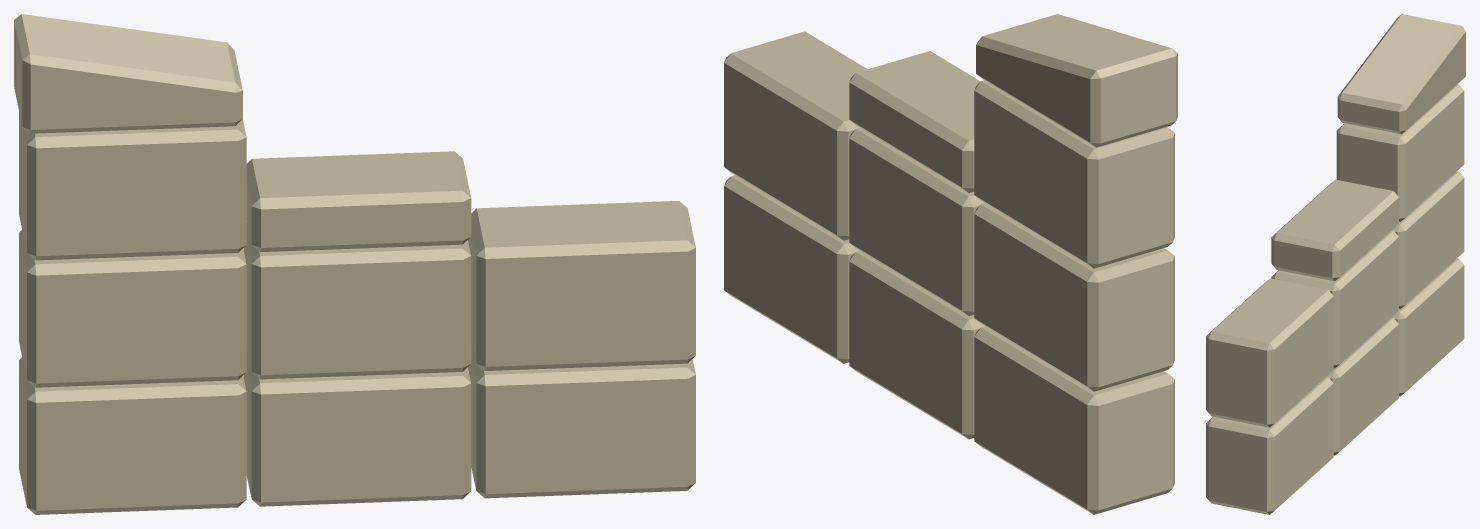
Rendered from Ruin_BrokenWall_A.glb.
3 views of the same model, side by side, from view 1: azimuth 30°, elevation 25°; view 2: azimuth 150°, elevation 25°; view 3: azimuth 270°, elevation 25° (orthographic). The views are drawn at different scales.
Visible parts, largest first — view 1: Ruin_BrokenWall_A.001; view 2: Ruin_BrokenWall_A.001; view 3: Ruin_BrokenWall_A.001.
Part boxes in pixels (bbox=[...]): Ruin_BrokenWall_A.001: bbox=[14, 14, 695, 514]; Ruin_BrokenWall_A.001: bbox=[724, 14, 1177, 514]; Ruin_BrokenWall_A.001: bbox=[1206, 14, 1465, 514].
Size of the model in its own units: 7.67 by 5.98 by 4.46.
